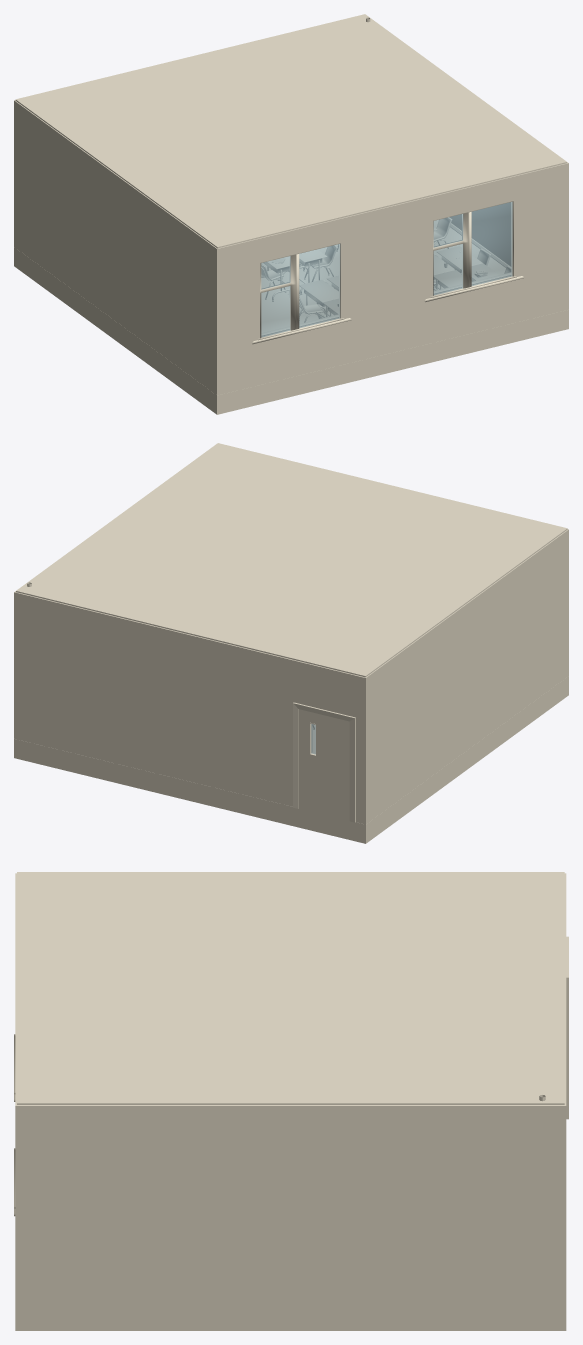
File: low-poly-classroom.glb
3 views of the same model, one above another, from view 1: azimuth 30°, elevation 25°; view 2: azimuth 150°, elevation 25°; view 3: azimuth 270°, elevation 25° (orthographic). The views are drawn at different scales.
Parts seen in each view (by area): view 1: BezierCircle_CUBezierCircle; view 2: BezierCircle_CUBezierCircle; view 3: BezierCircle_CUBezierCircle.
Boxes of the visible parts, <box> form: BezierCircle_CUBezierCircle: <box>14,14,568,414</box>; BezierCircle_CUBezierCircle: <box>14,443,568,843</box>; BezierCircle_CUBezierCircle: <box>14,872,568,1330</box>.
Size of the model in its own units: 35.2 by 16.25 by 35.46.
